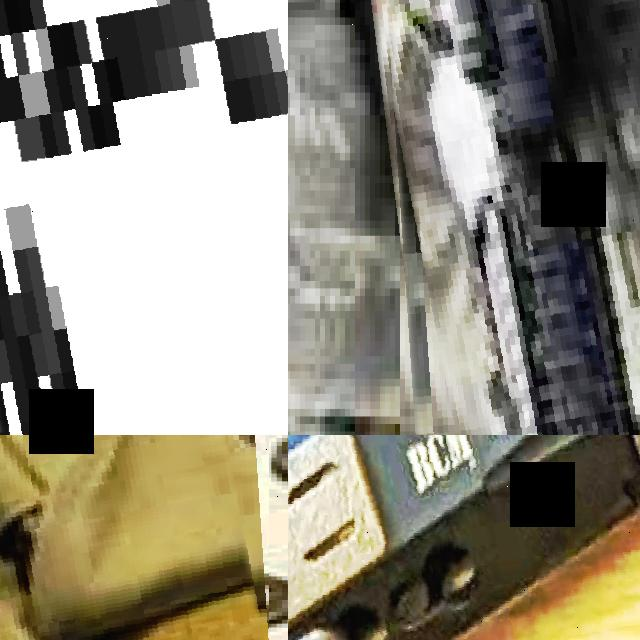arms: (0, 0, 288, 435), (382, 0, 640, 435), (288, 435, 640, 640), (288, 435, 640, 640), (0, 435, 269, 640)
